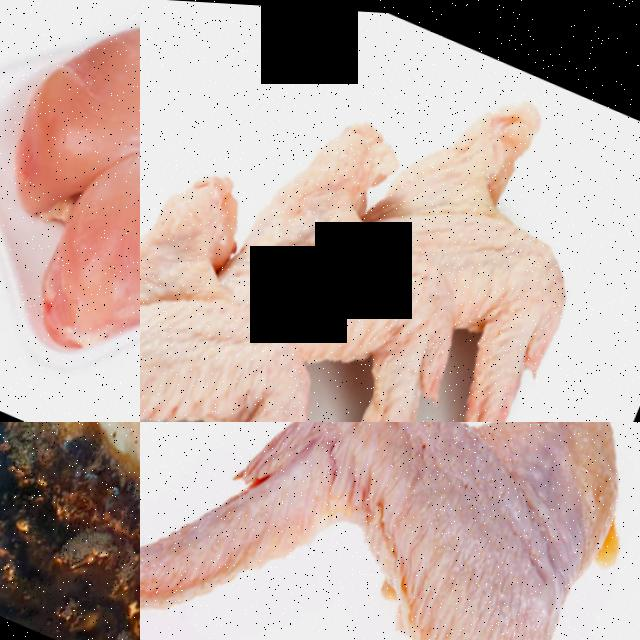chicken breast: (0, 0, 140, 388), (0, 422, 140, 621)
chicken wing: (140, 422, 640, 640), (167, 137, 518, 422), (140, 210, 399, 422)
